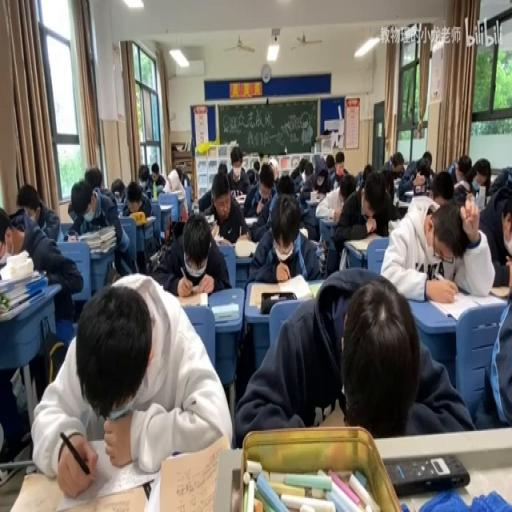calculator: (153, 436, 230, 512), (0, 262, 49, 318), (426, 286, 494, 320), (248, 275, 314, 307), (318, 401, 348, 425), (176, 287, 208, 307), (210, 300, 238, 322), (79, 224, 114, 240), (234, 236, 256, 258), (346, 236, 372, 253), (90, 244, 115, 258), (490, 283, 510, 297), (214, 233, 234, 246), (307, 282, 321, 298), (453, 180, 469, 194), (387, 219, 400, 235), (242, 214, 258, 224), (306, 196, 322, 205), (116, 200, 126, 214), (210, 222, 219, 237), (298, 226, 308, 239), (158, 203, 172, 212), (233, 193, 246, 202), (306, 239, 320, 247), (202, 213, 214, 222), (404, 189, 414, 199), (66, 234, 76, 242), (144, 216, 155, 223), (394, 176, 400, 188)
paper: (32, 270, 230, 496), (234, 270, 470, 445), (382, 179, 494, 299), (245, 189, 320, 283), (473, 253, 512, 429), (67, 174, 131, 280), (151, 208, 227, 296), (333, 166, 390, 266), (478, 175, 512, 277), (15, 180, 61, 242), (36, 327, 66, 386), (196, 162, 230, 213), (398, 152, 434, 199), (0, 204, 24, 262), (122, 178, 152, 219), (226, 145, 248, 195), (429, 169, 454, 205), (325, 150, 341, 188), (148, 159, 166, 191), (258, 164, 274, 196), (379, 168, 395, 199), (110, 176, 126, 205), (340, 171, 356, 199), (84, 165, 102, 189), (389, 151, 405, 176), (276, 174, 294, 194), (457, 155, 470, 181), (476, 164, 490, 188), (174, 164, 188, 186), (312, 154, 326, 175), (446, 159, 458, 181), (362, 164, 372, 184), (297, 158, 306, 176), (246, 168, 255, 183), (217, 162, 226, 175), (261, 151, 269, 165), (139, 176, 148, 188), (253, 158, 259, 173)
person: (386, 452, 470, 494), (395, 205, 408, 219)
